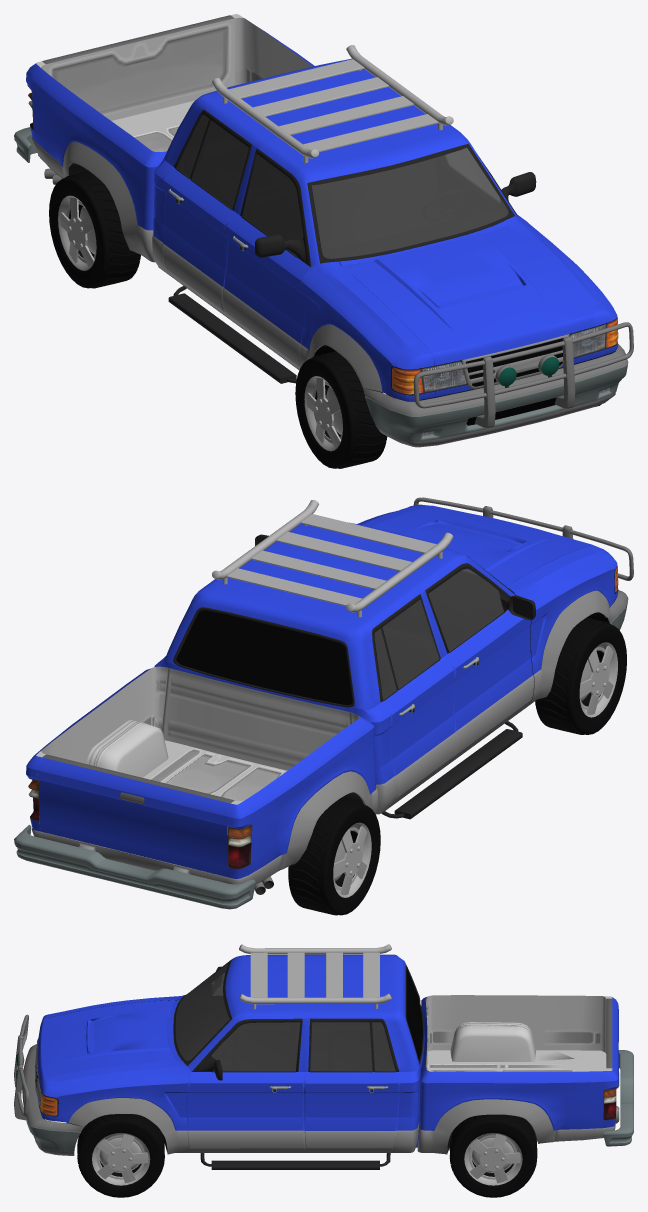
Rendered from player-pickup.fbx.
The picture shows the model from 3 angles, top to bottom: view 1: azimuth 30°, elevation 25°; view 2: azimuth 150°, elevation 25°; view 3: azimuth 270°, elevation 25°; orthographic projection. The views are drawn at different scales.
Visible parts, largest first — view 1: player-pickup, player-pickup-front-wheel-R, player-pickup-rear-wheel-R; view 2: player-pickup, player-pickup-rear-wheel-R, player-pickup-front-wheel-R; view 3: player-pickup, player-pickup-rear-wheel-L, player-pickup-front-wheel-L.
Boxes of the visible parts, x1,y1,x2,y2 form: player-pickup: [14, 14, 633, 447]; player-pickup-front-wheel-R: [295, 351, 387, 468]; player-pickup-rear-wheel-R: [49, 171, 140, 288]; player-pickup: [14, 497, 633, 909]; player-pickup-rear-wheel-R: [288, 798, 380, 915]; player-pickup-front-wheel-R: [535, 617, 626, 734]; player-pickup: [14, 944, 633, 1169]; player-pickup-rear-wheel-L: [449, 1114, 537, 1197]; player-pickup-front-wheel-L: [77, 1114, 164, 1197].
Size of the model in its own units: 2.37 by 1.96 by 6.04.
